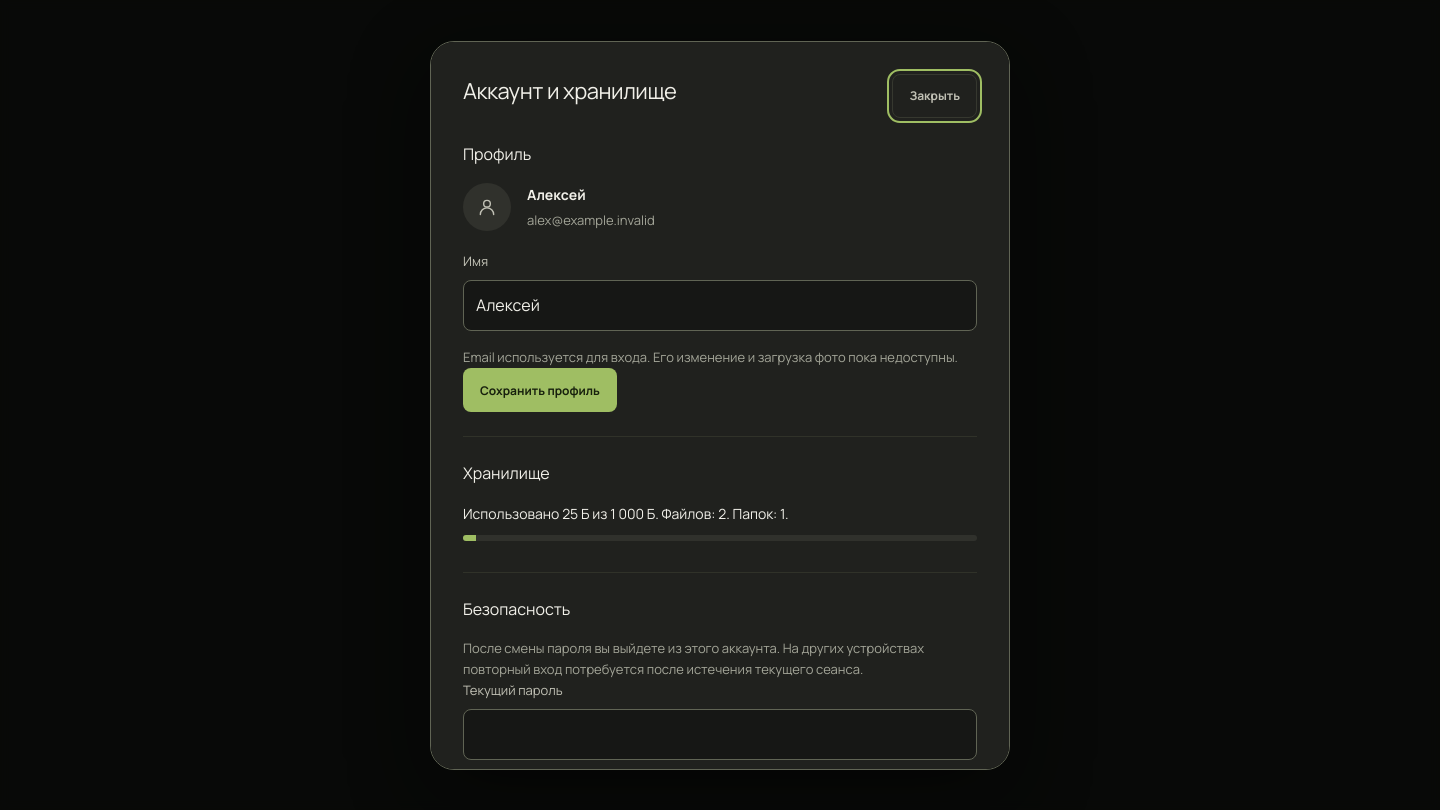
Test case: AccountDialog › keeps session and exposes safe retry after password failure
In the password field labelled "Текущий пароль": [720, 734] box [463,709,977,760], type "old"
(page scrolled)
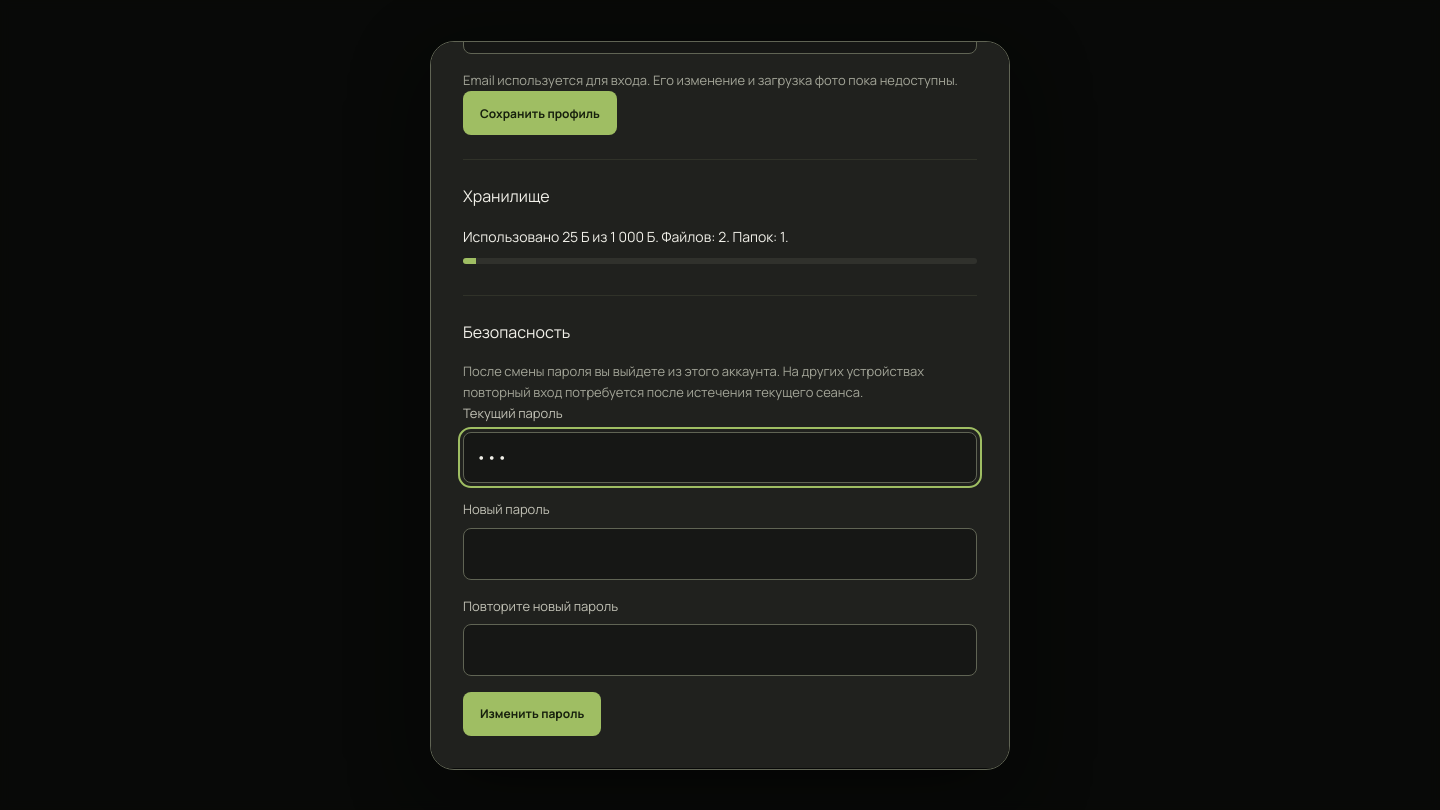
In the password field labelled "Новый пароль": [720, 554] box [463,528,977,580], type "newpassword"
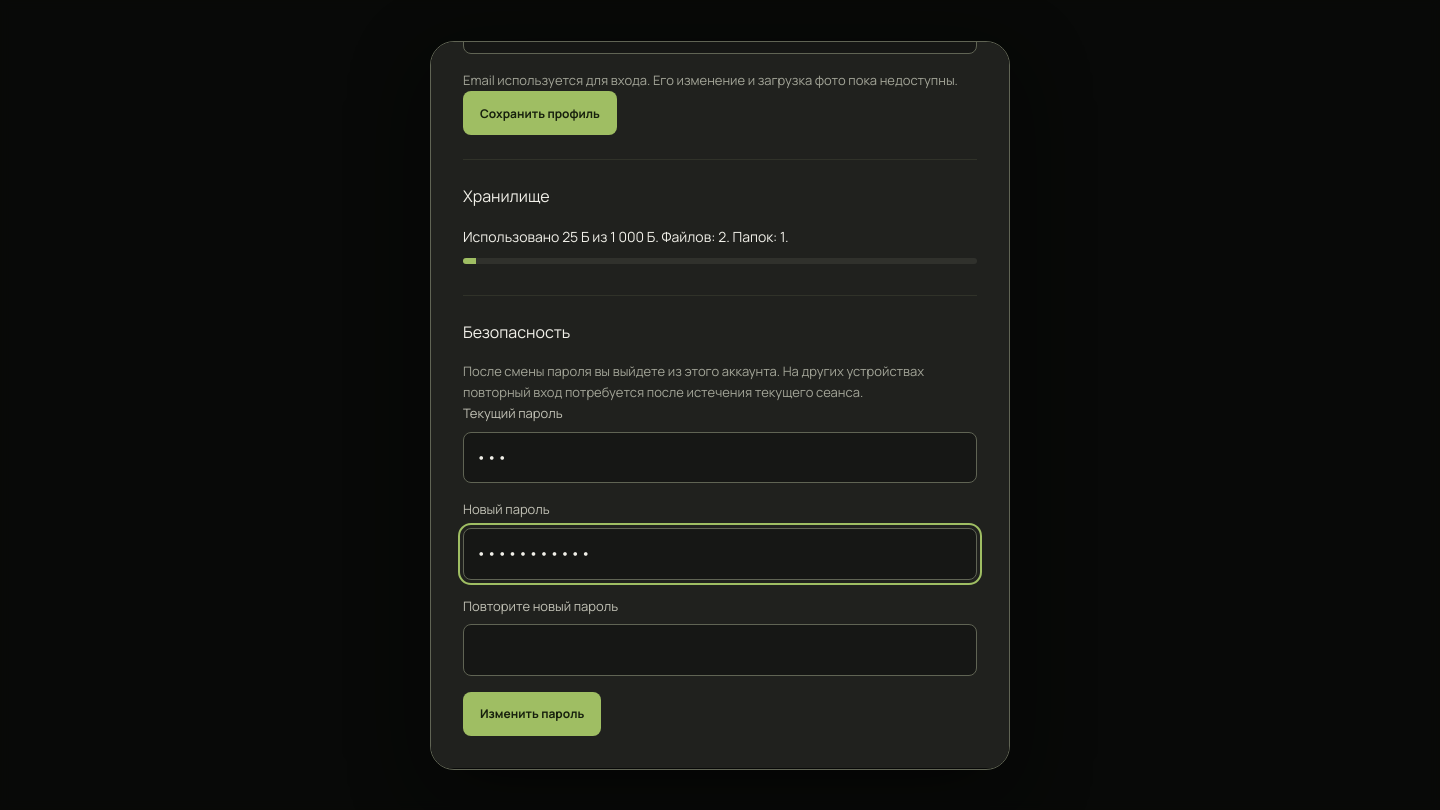
In the password field labelled "Повторите новый пароль": [720, 650] box [463,624,977,676], type "newpassword"
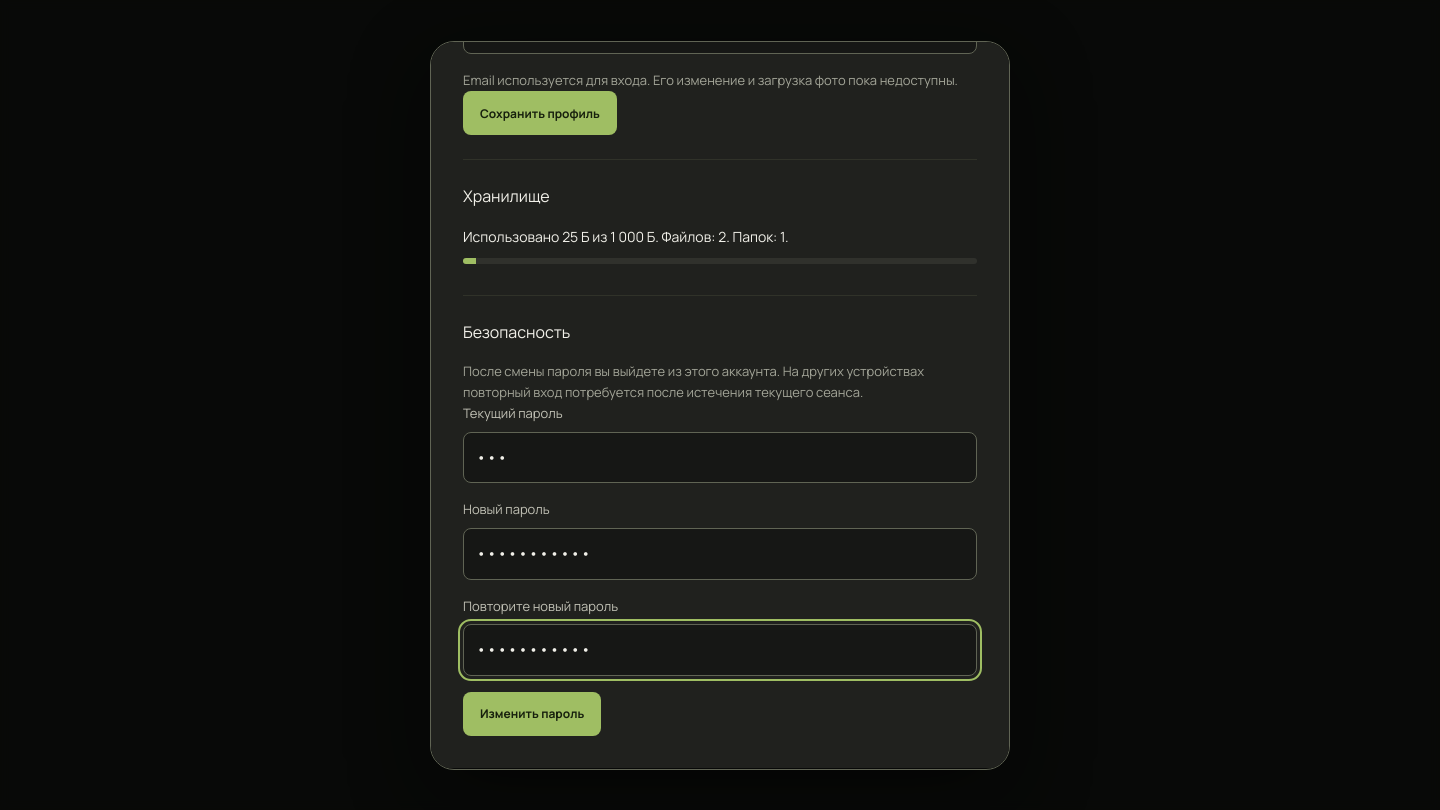
Click the button "Изменить пароль": [532, 714] box [463,692,601,736]
(page scrolled)
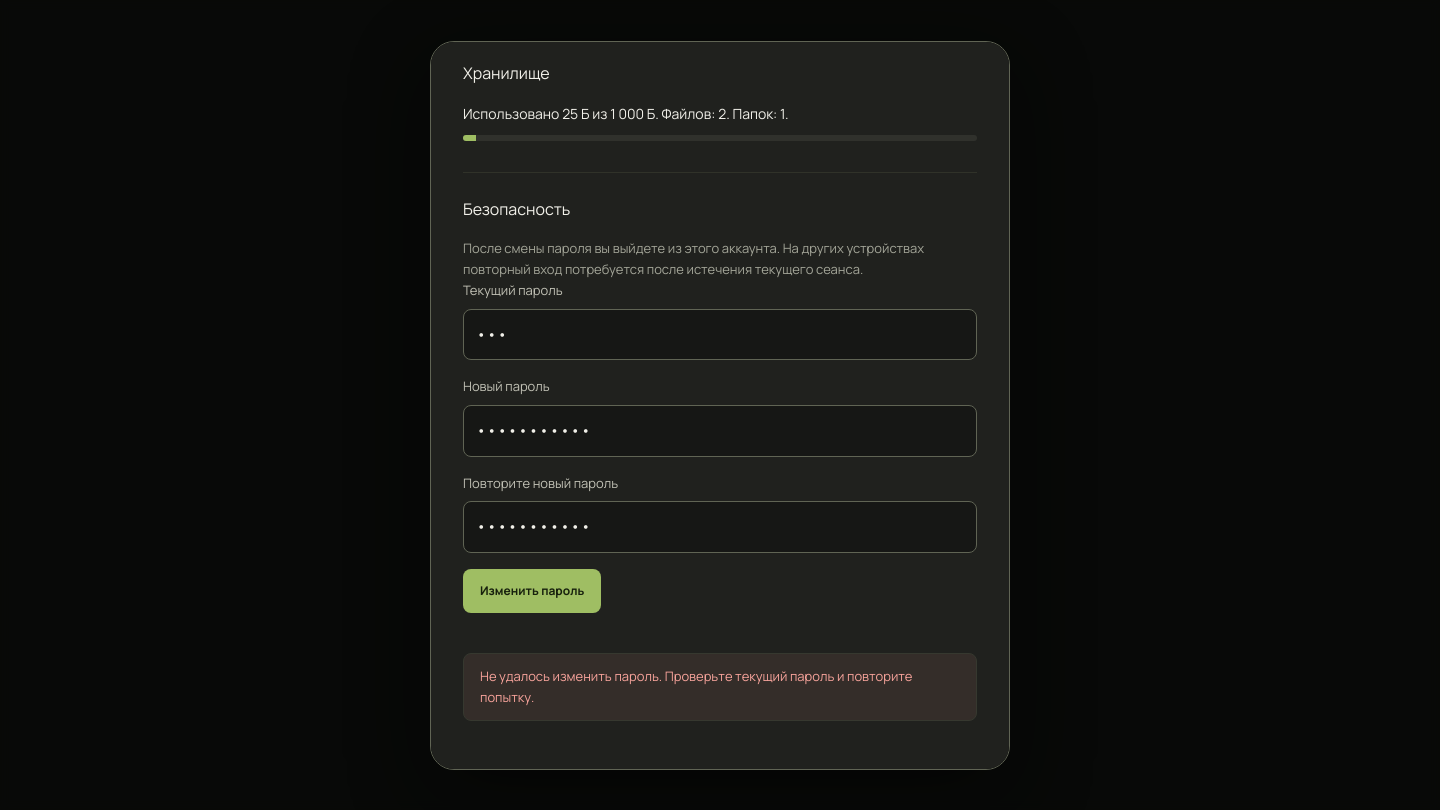
Result: the message shows "Не удалось изменить пароль." at [480,667,912,706]
